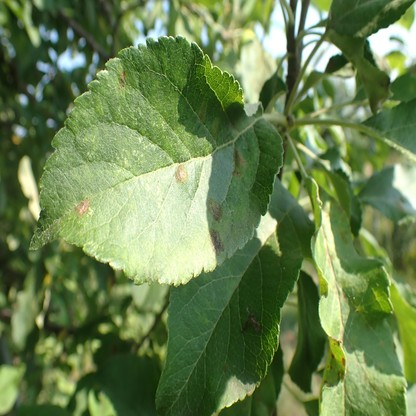scab: (207, 228, 225, 255), (241, 314, 261, 335), (233, 148, 245, 177), (208, 198, 222, 221), (229, 106, 244, 127), (176, 165, 188, 184), (75, 199, 90, 214), (199, 103, 206, 121), (212, 120, 218, 138), (222, 363, 227, 374)
